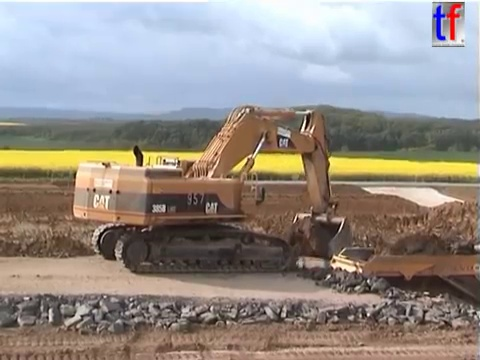excavator: (70, 102, 355, 276)
truck: (328, 243, 480, 331)
